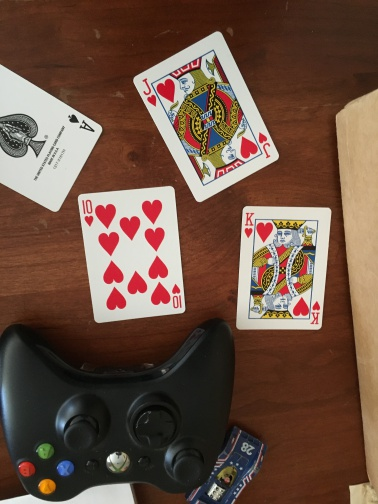ace: (1, 65, 105, 196)
jack: (131, 31, 279, 202)
king: (236, 205, 332, 331)
ten: (77, 185, 185, 322)
